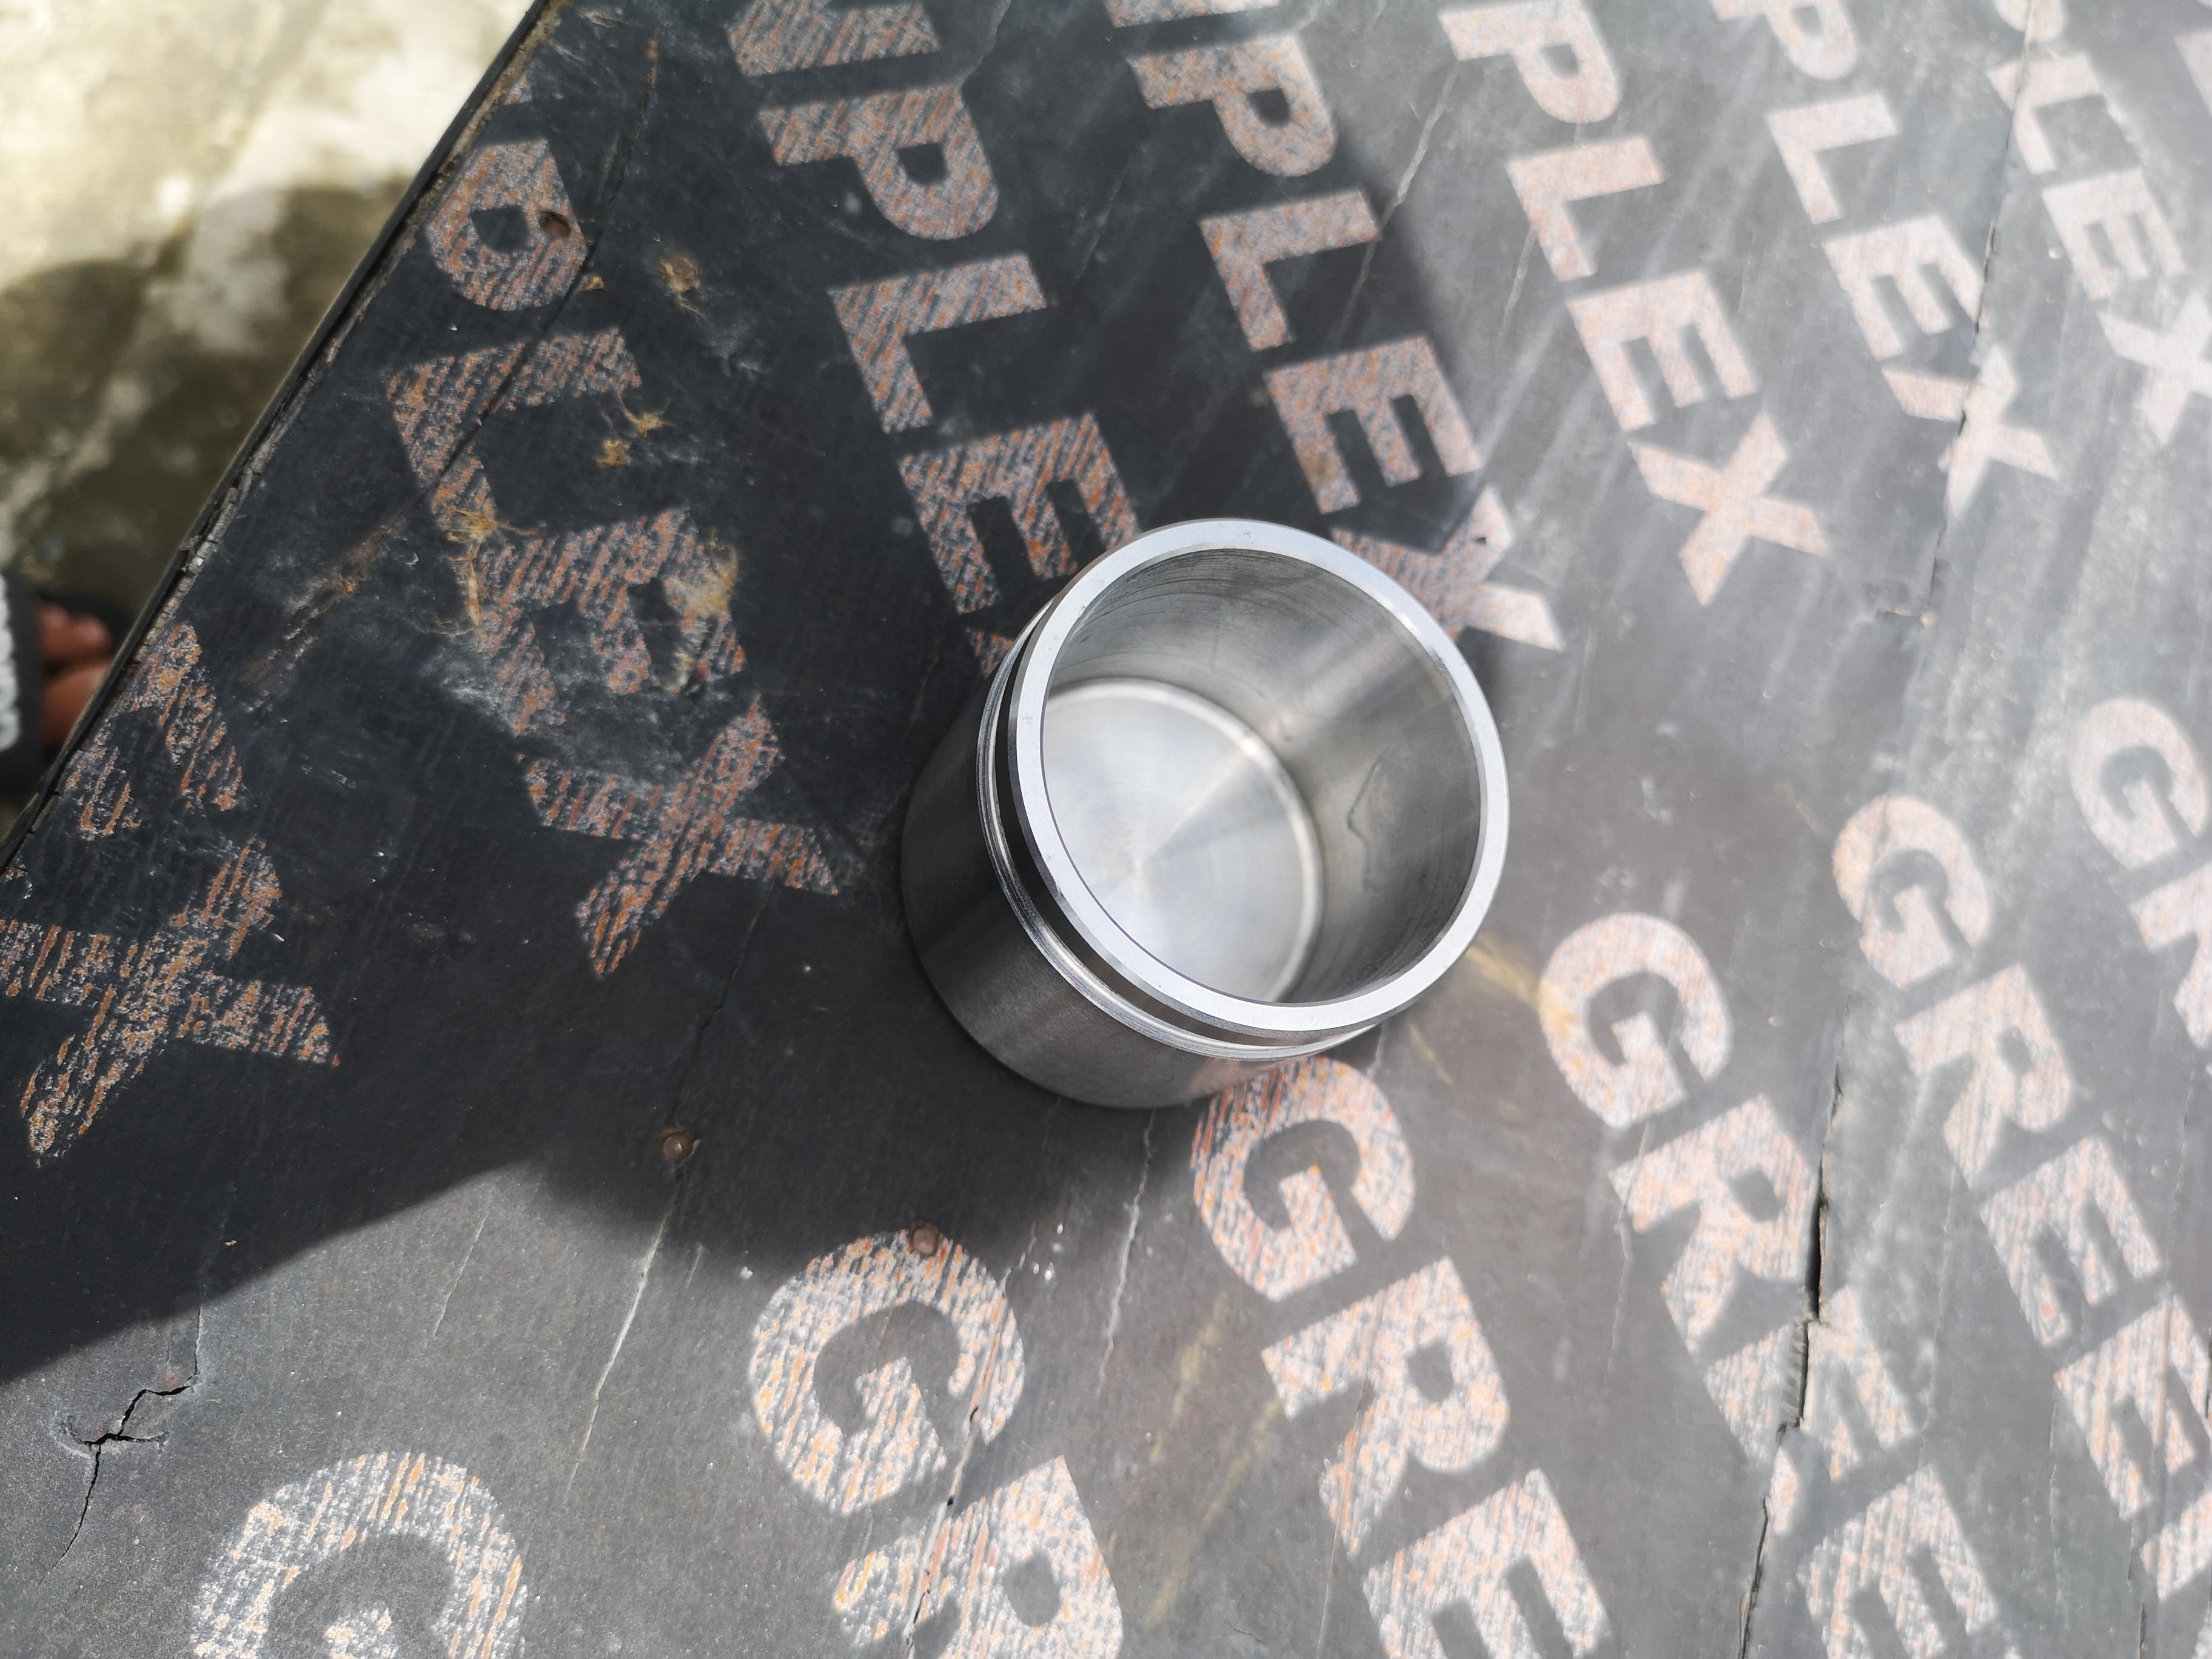ลูกสูบดิสเบรค: (836, 474, 1531, 1169)
